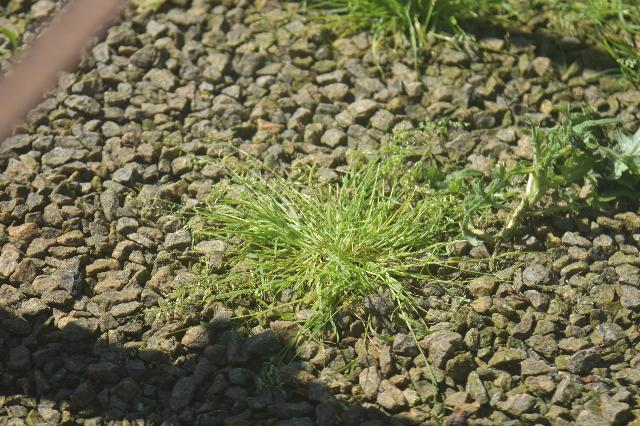MalezaMontesDelPlata: (166, 130, 468, 356), (469, 101, 636, 252), (277, 0, 509, 75)
